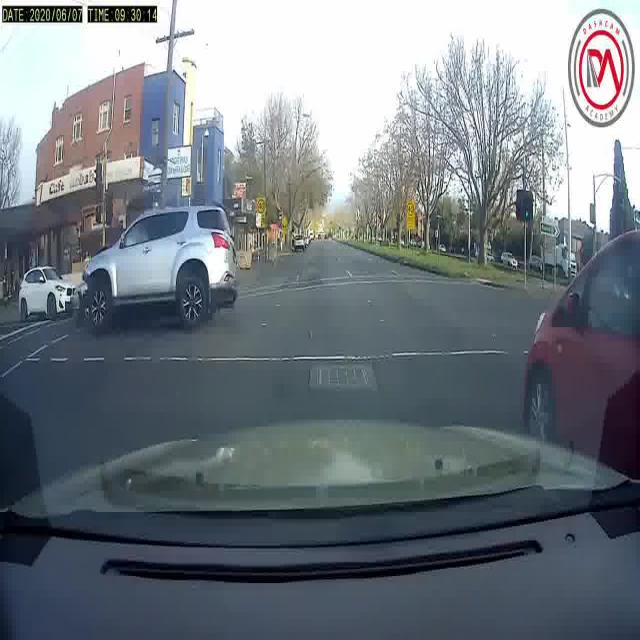Accident: (62, 141, 254, 394)
